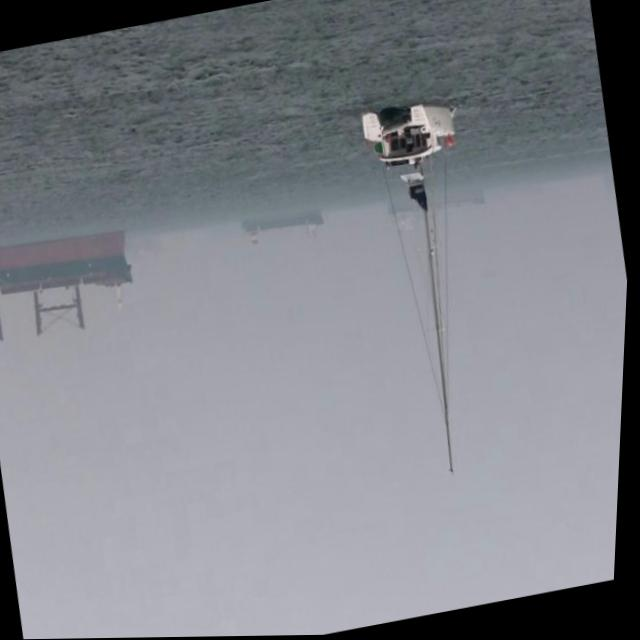ship2: (362, 103, 460, 464)
